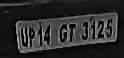1: (36, 24, 45, 47), (88, 19, 97, 42)
2: (96, 19, 106, 42)
3: (81, 20, 91, 43)
4: (43, 24, 53, 47)
5: (104, 18, 115, 40)
G: (56, 23, 69, 45)
P: (27, 25, 36, 49)
T: (67, 22, 79, 43)
U: (20, 26, 30, 51)
